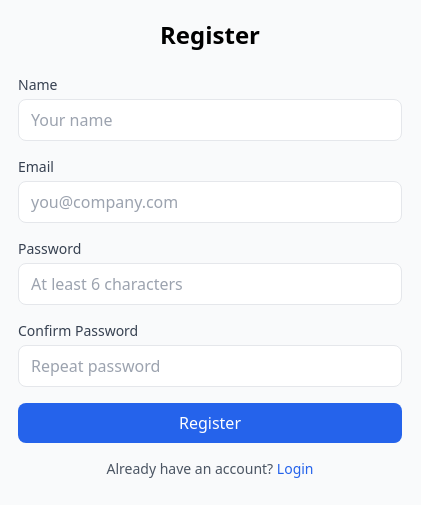
Test: RegisterPage › shows error when passwords don't match
Type "Test User" into the field with placeholder "Your name". click: (210, 120)
box: [18,99,402,141]
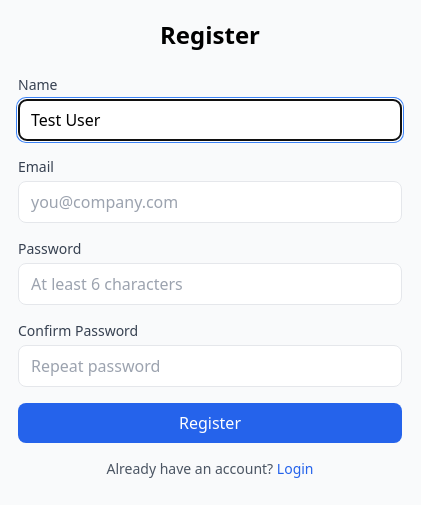
Type "test@test.com" into the field with placeholder "you@company.com". click: (210, 202)
box: [18,181,402,223]
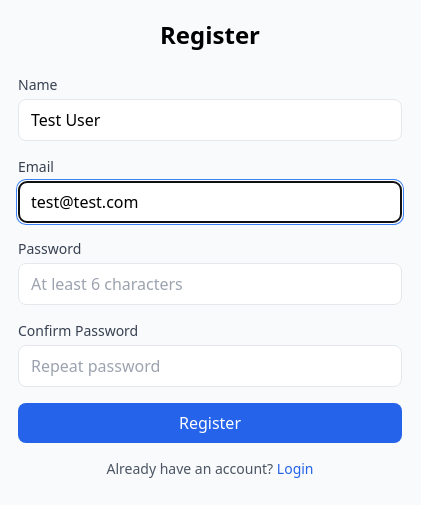
Type "password123" into the password field with placeholder "At least 6 characters". click: (210, 284)
box: [18,263,402,305]
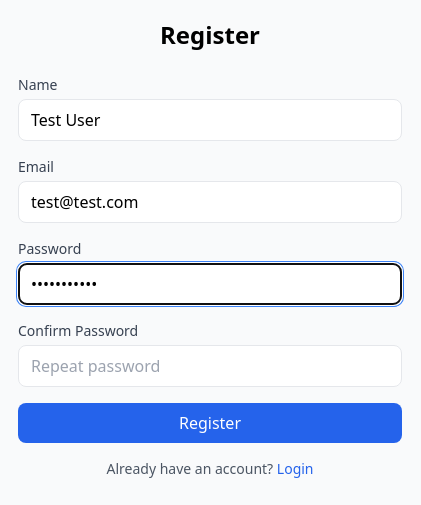
Type "different456" into the password field with placeholder "Repeat password". click: (210, 366)
box: [18,345,402,387]
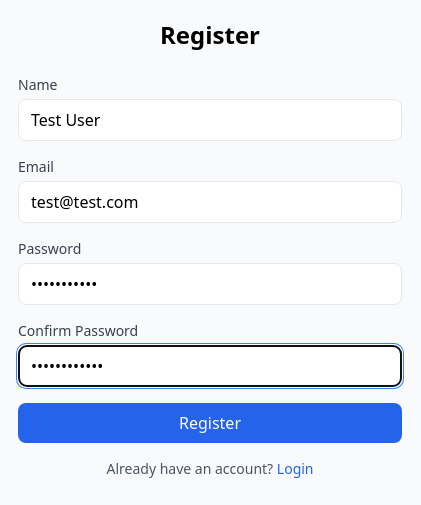
Click the button "Register". click: (210, 423)
box: [18,403,402,443]
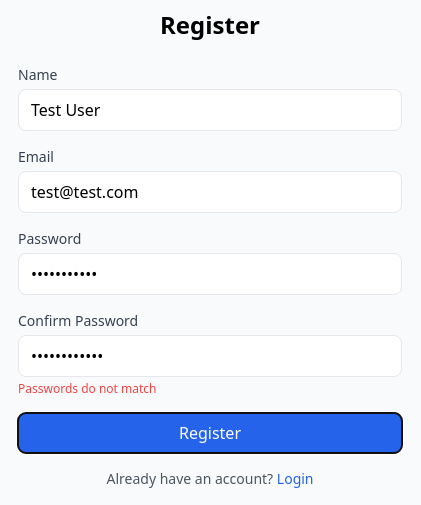
Result: the text "Passwords do not match" is shown at [18,380,156,397]
